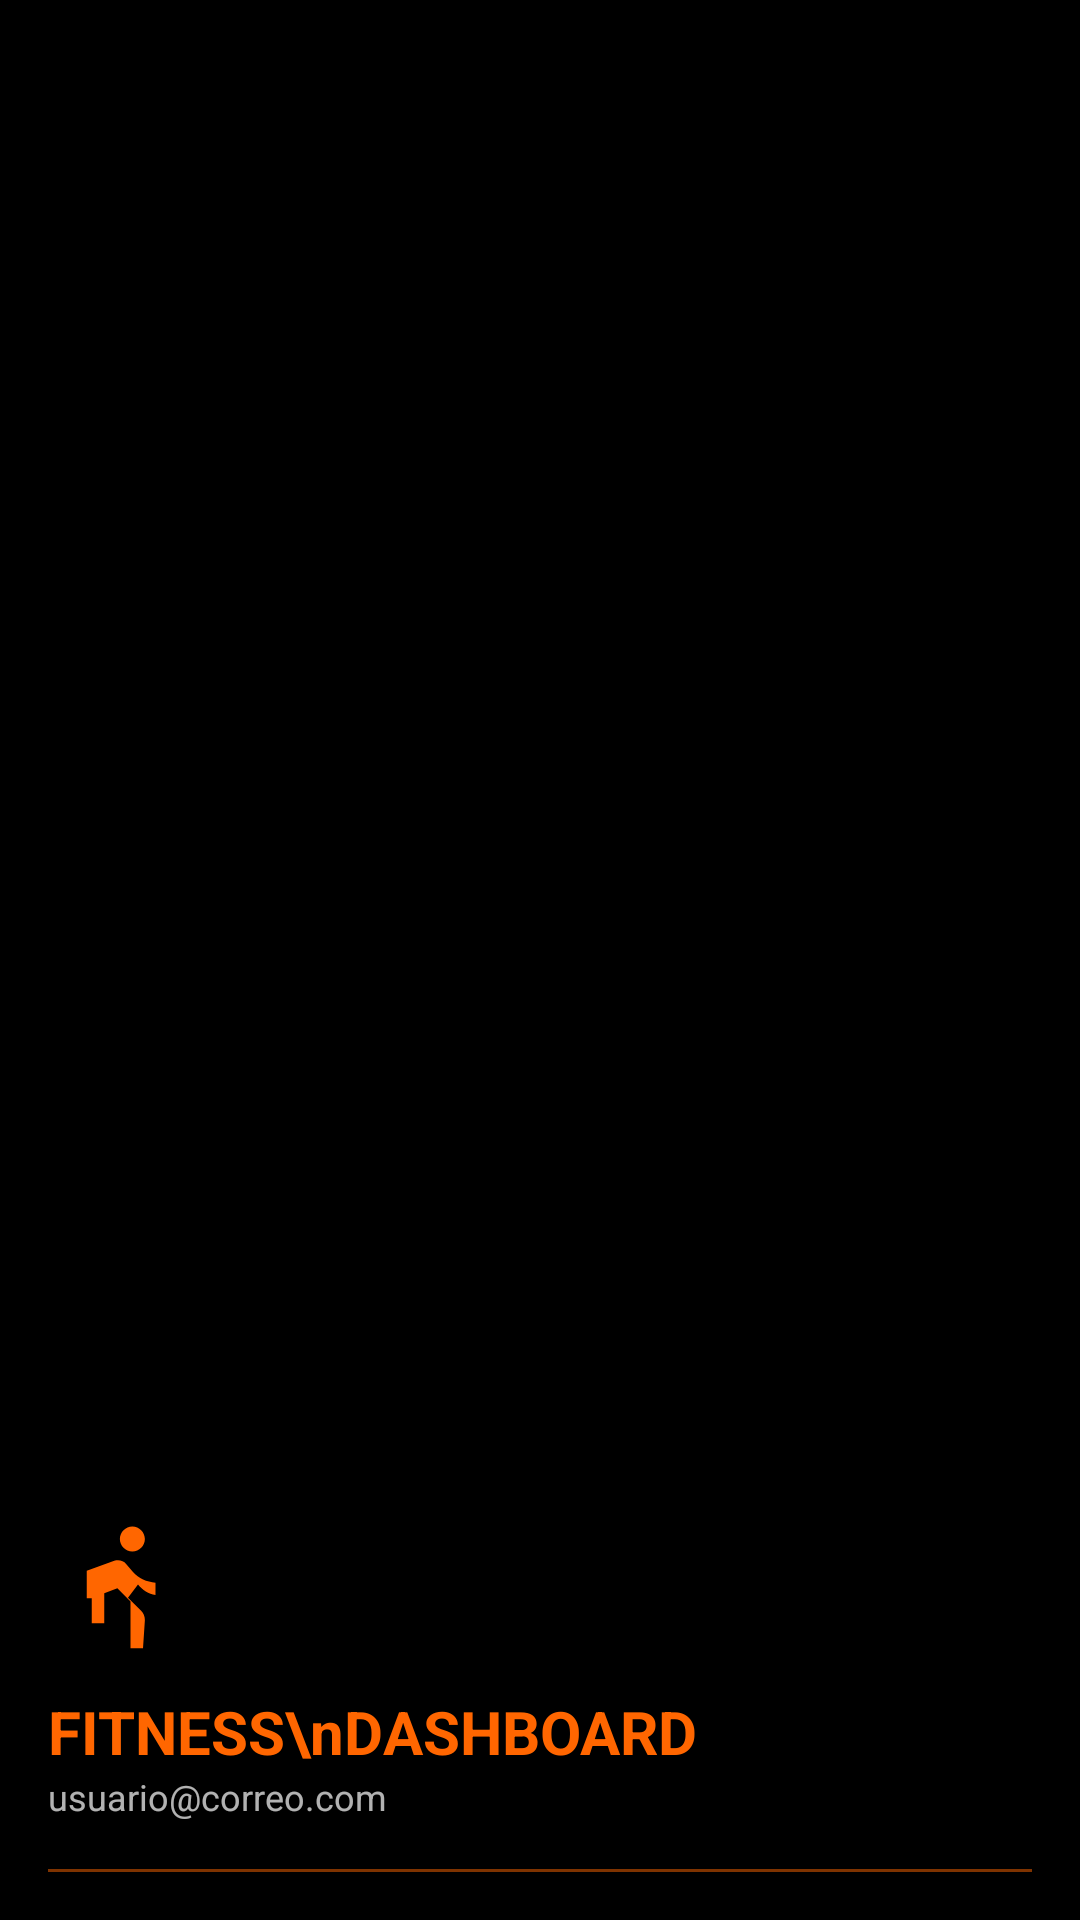

Where to tap for icons on this 1080px x 1920px app screen, as [x,y]:
run: [121,1587]
